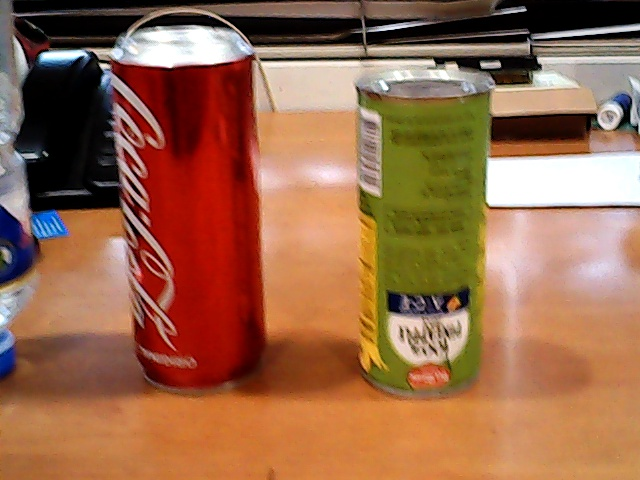Cola: (97, 22, 281, 390)
Pine Juice: (342, 47, 500, 407)
